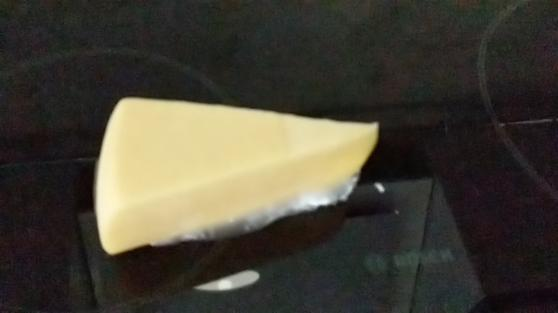cheese: (94, 92, 379, 254)
